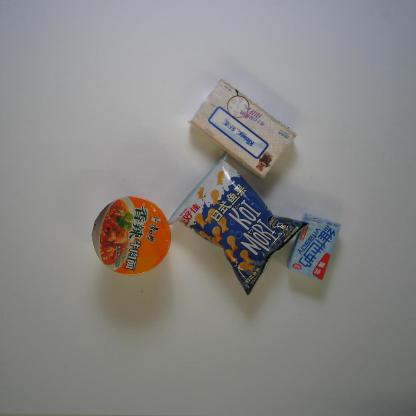Instant Noodles: (91, 196, 172, 276)
Milk: (287, 213, 342, 282)
Puffed Food: (167, 150, 311, 297)
Tissue: (190, 78, 298, 180)
